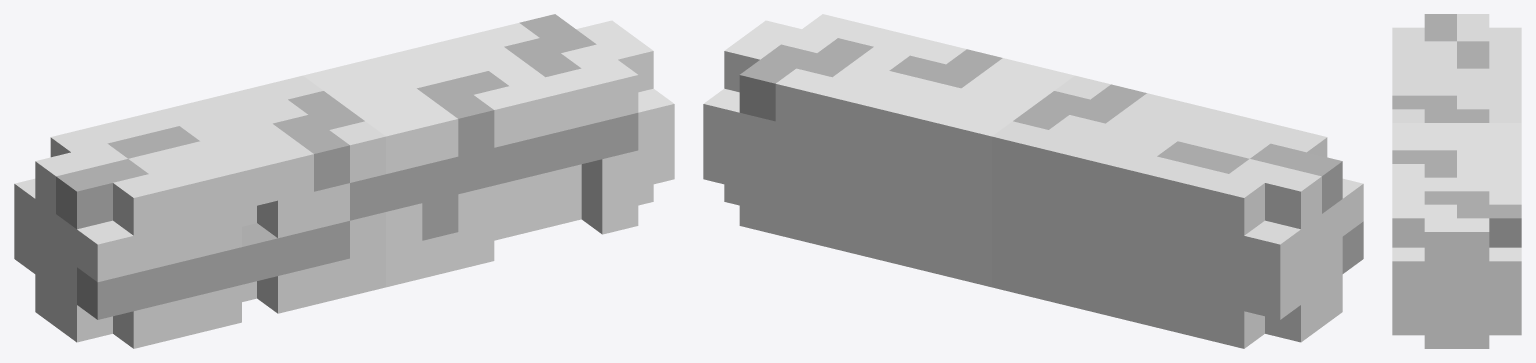
File: Skeleton_ArmL.fbx
The picture shows the model from 3 angles, left to right: view 1: azimuth 30°, elevation 25°; view 2: azimuth 150°, elevation 25°; view 3: azimuth 270°, elevation 25°; orthographic projection. The views are drawn at different scales.
Parts seen in each view (by area): view 1: Left Arm; view 2: Left Arm; view 3: Left Arm.
Boxes of the visible parts, bbox=[...] form: Left Arm: bbox=[14, 14, 674, 348]; Left Arm: bbox=[703, 14, 1363, 348]; Left Arm: bbox=[1392, 14, 1521, 348].
Size of the model in its own units: 160 by 40 by 40.
